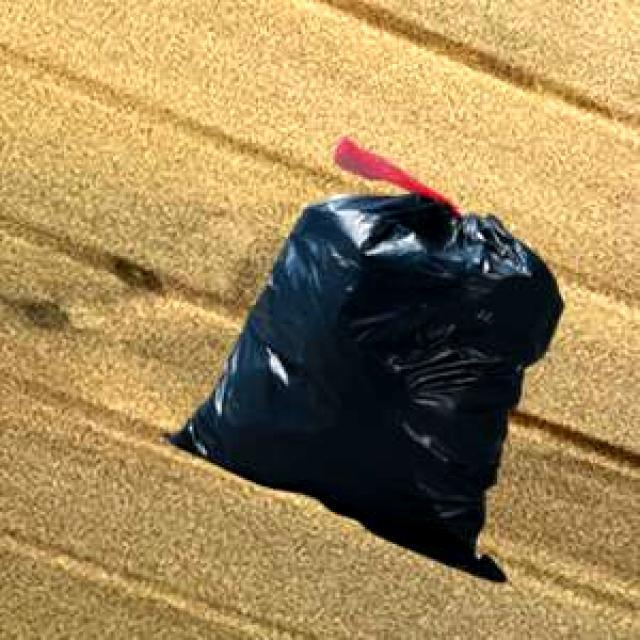Bolsa-de-nilon: (163, 138, 566, 581)
